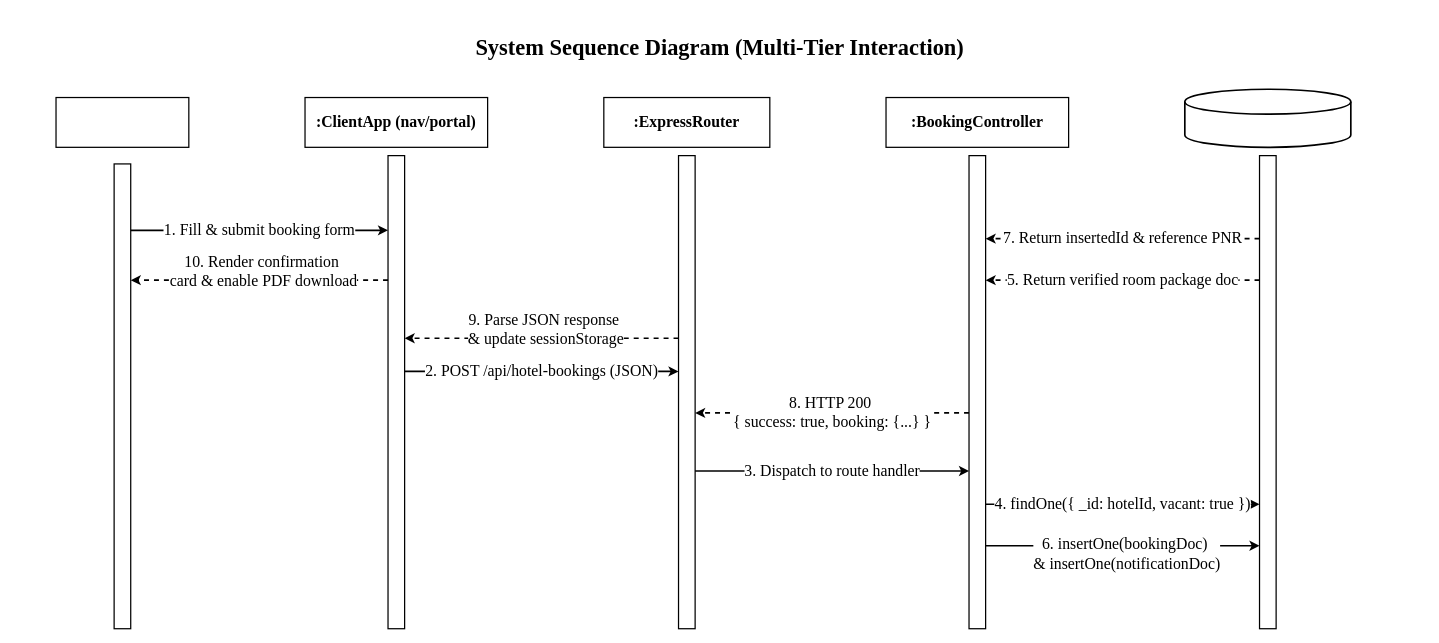
This 1439x643 diagram has some shape labels left out. Each missing label, with the centre of its shape:
":MongoDBEngine" belongs at [1267,118].
":Traveler" belongs at [122,122].
